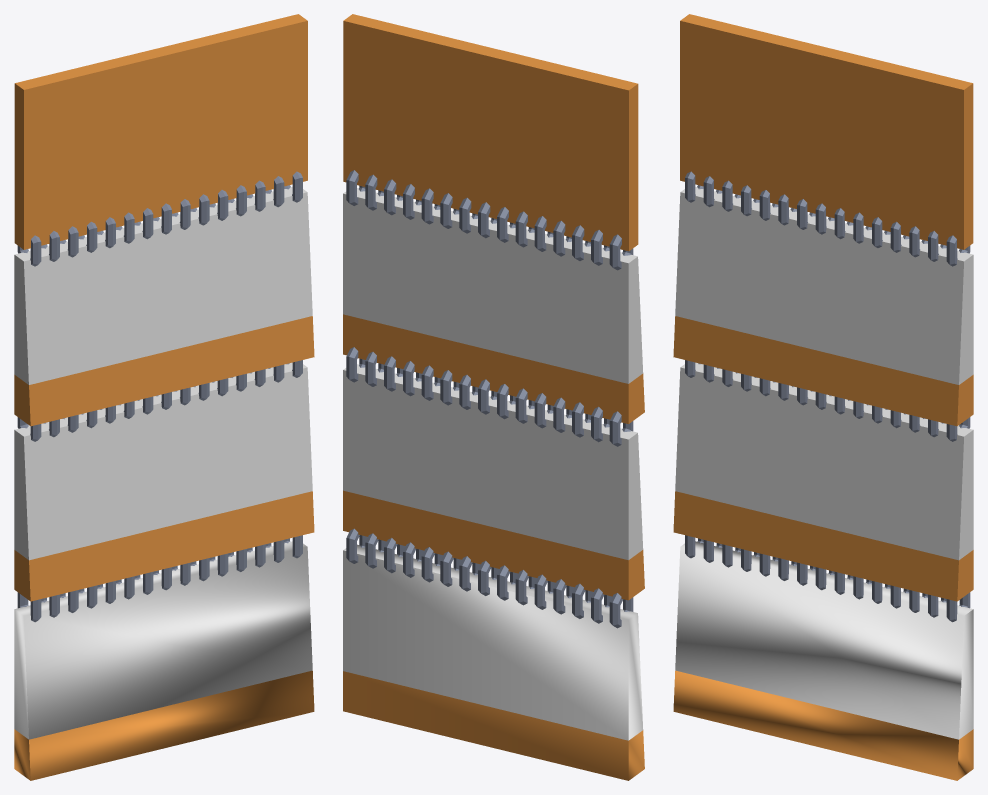
File: SM_calendar_01.fbx
3 renders of one model, left to right at view 1: azimuth 30°, elevation 25°; view 2: azimuth 150°, elevation 25°; view 3: azimuth 330°, elevation 25°, orthographic.
Visible parts, largest first — view 1: calendar_kolca.049, calendar_kolca.015; view 2: calendar_kolca.049, calendar_kolca.015; view 3: calendar_kolca.049, calendar_kolca.015.
Boxes of the visible parts, box(x1,y1,x2,y2) form: calendar_kolca.049: box(14, 14, 314, 780); calendar_kolca.015: box(17, 171, 302, 622); calendar_kolca.049: box(343, 14, 644, 780); calendar_kolca.015: box(346, 170, 633, 628); calendar_kolca.049: box(673, 14, 973, 780); calendar_kolca.015: box(685, 171, 970, 622).
Bounding box in the file's own units: 47 × 109 × 6.04.
